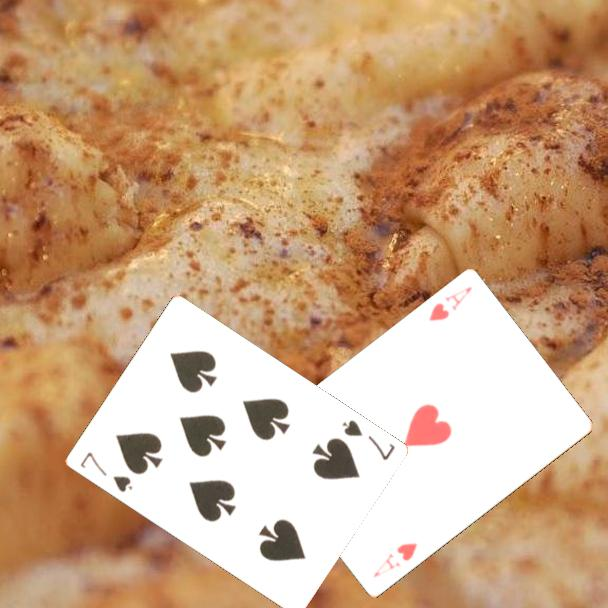h01: (369, 539, 420, 581), (425, 283, 475, 325)
s07: (338, 416, 398, 463), (76, 448, 135, 495)
